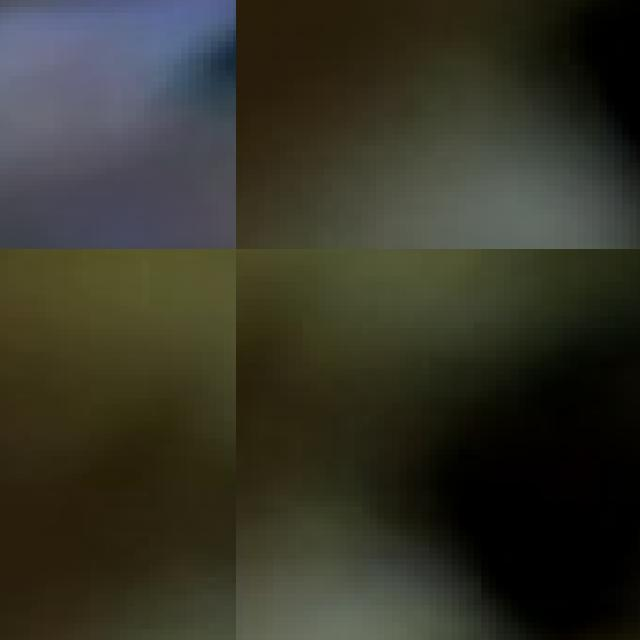fish: (2, 0, 236, 249)
